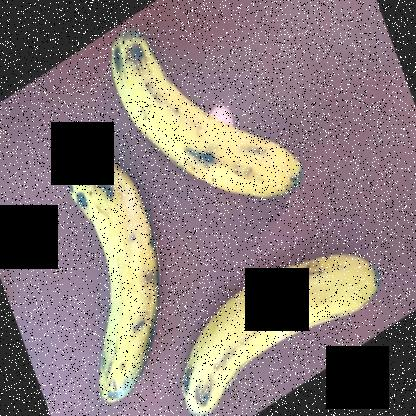overripe: (57, 144, 167, 416)
ripe: (97, 7, 300, 204), (179, 250, 394, 415)
